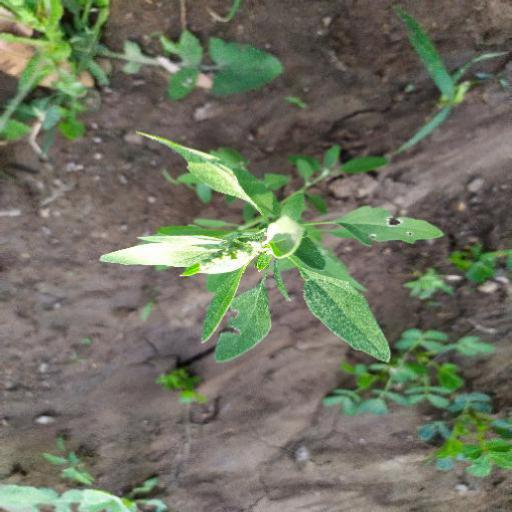weed: (109, 121, 475, 408)
